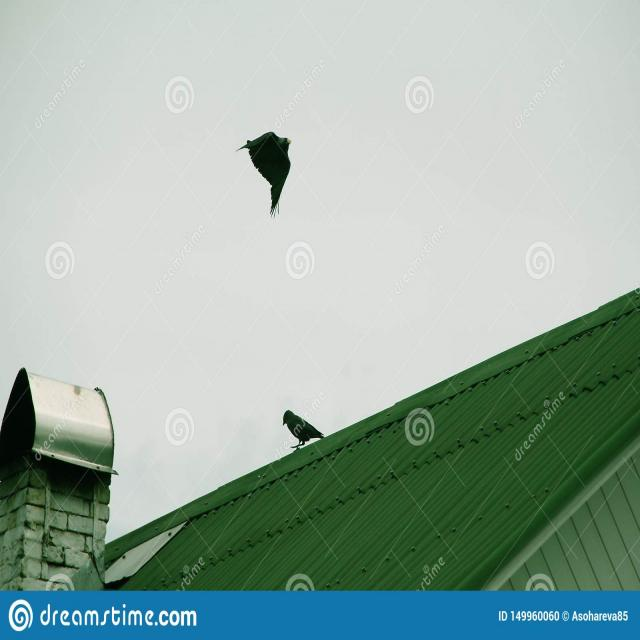bird: (282, 408, 325, 451)
